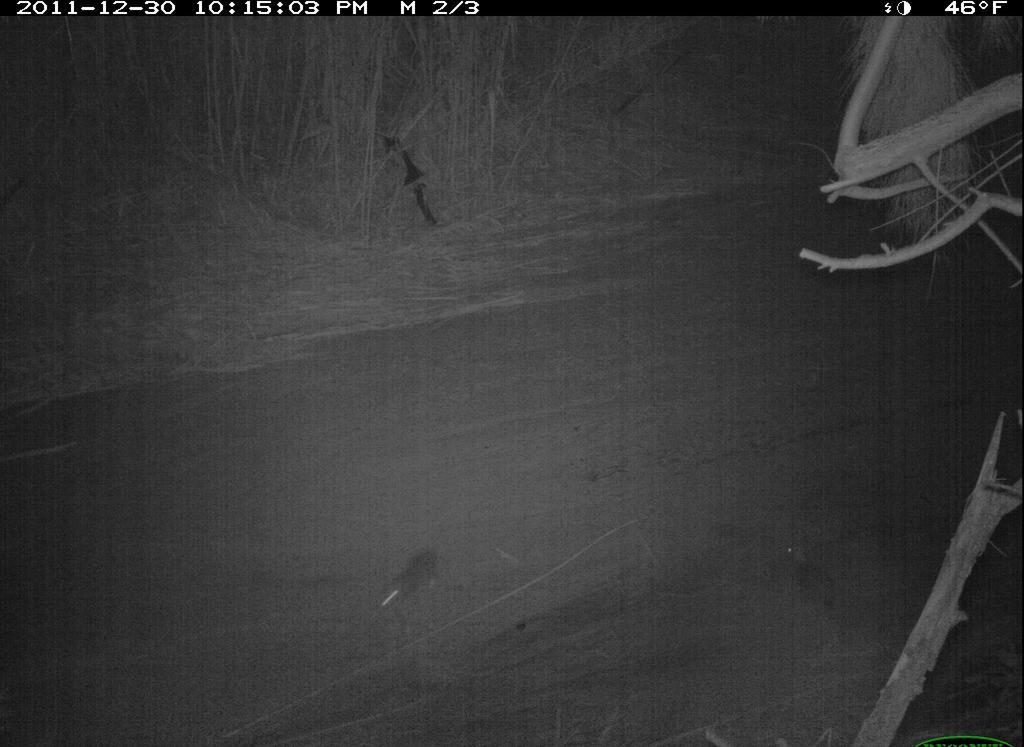rabbit: (368, 541, 457, 625), (783, 532, 854, 605)
